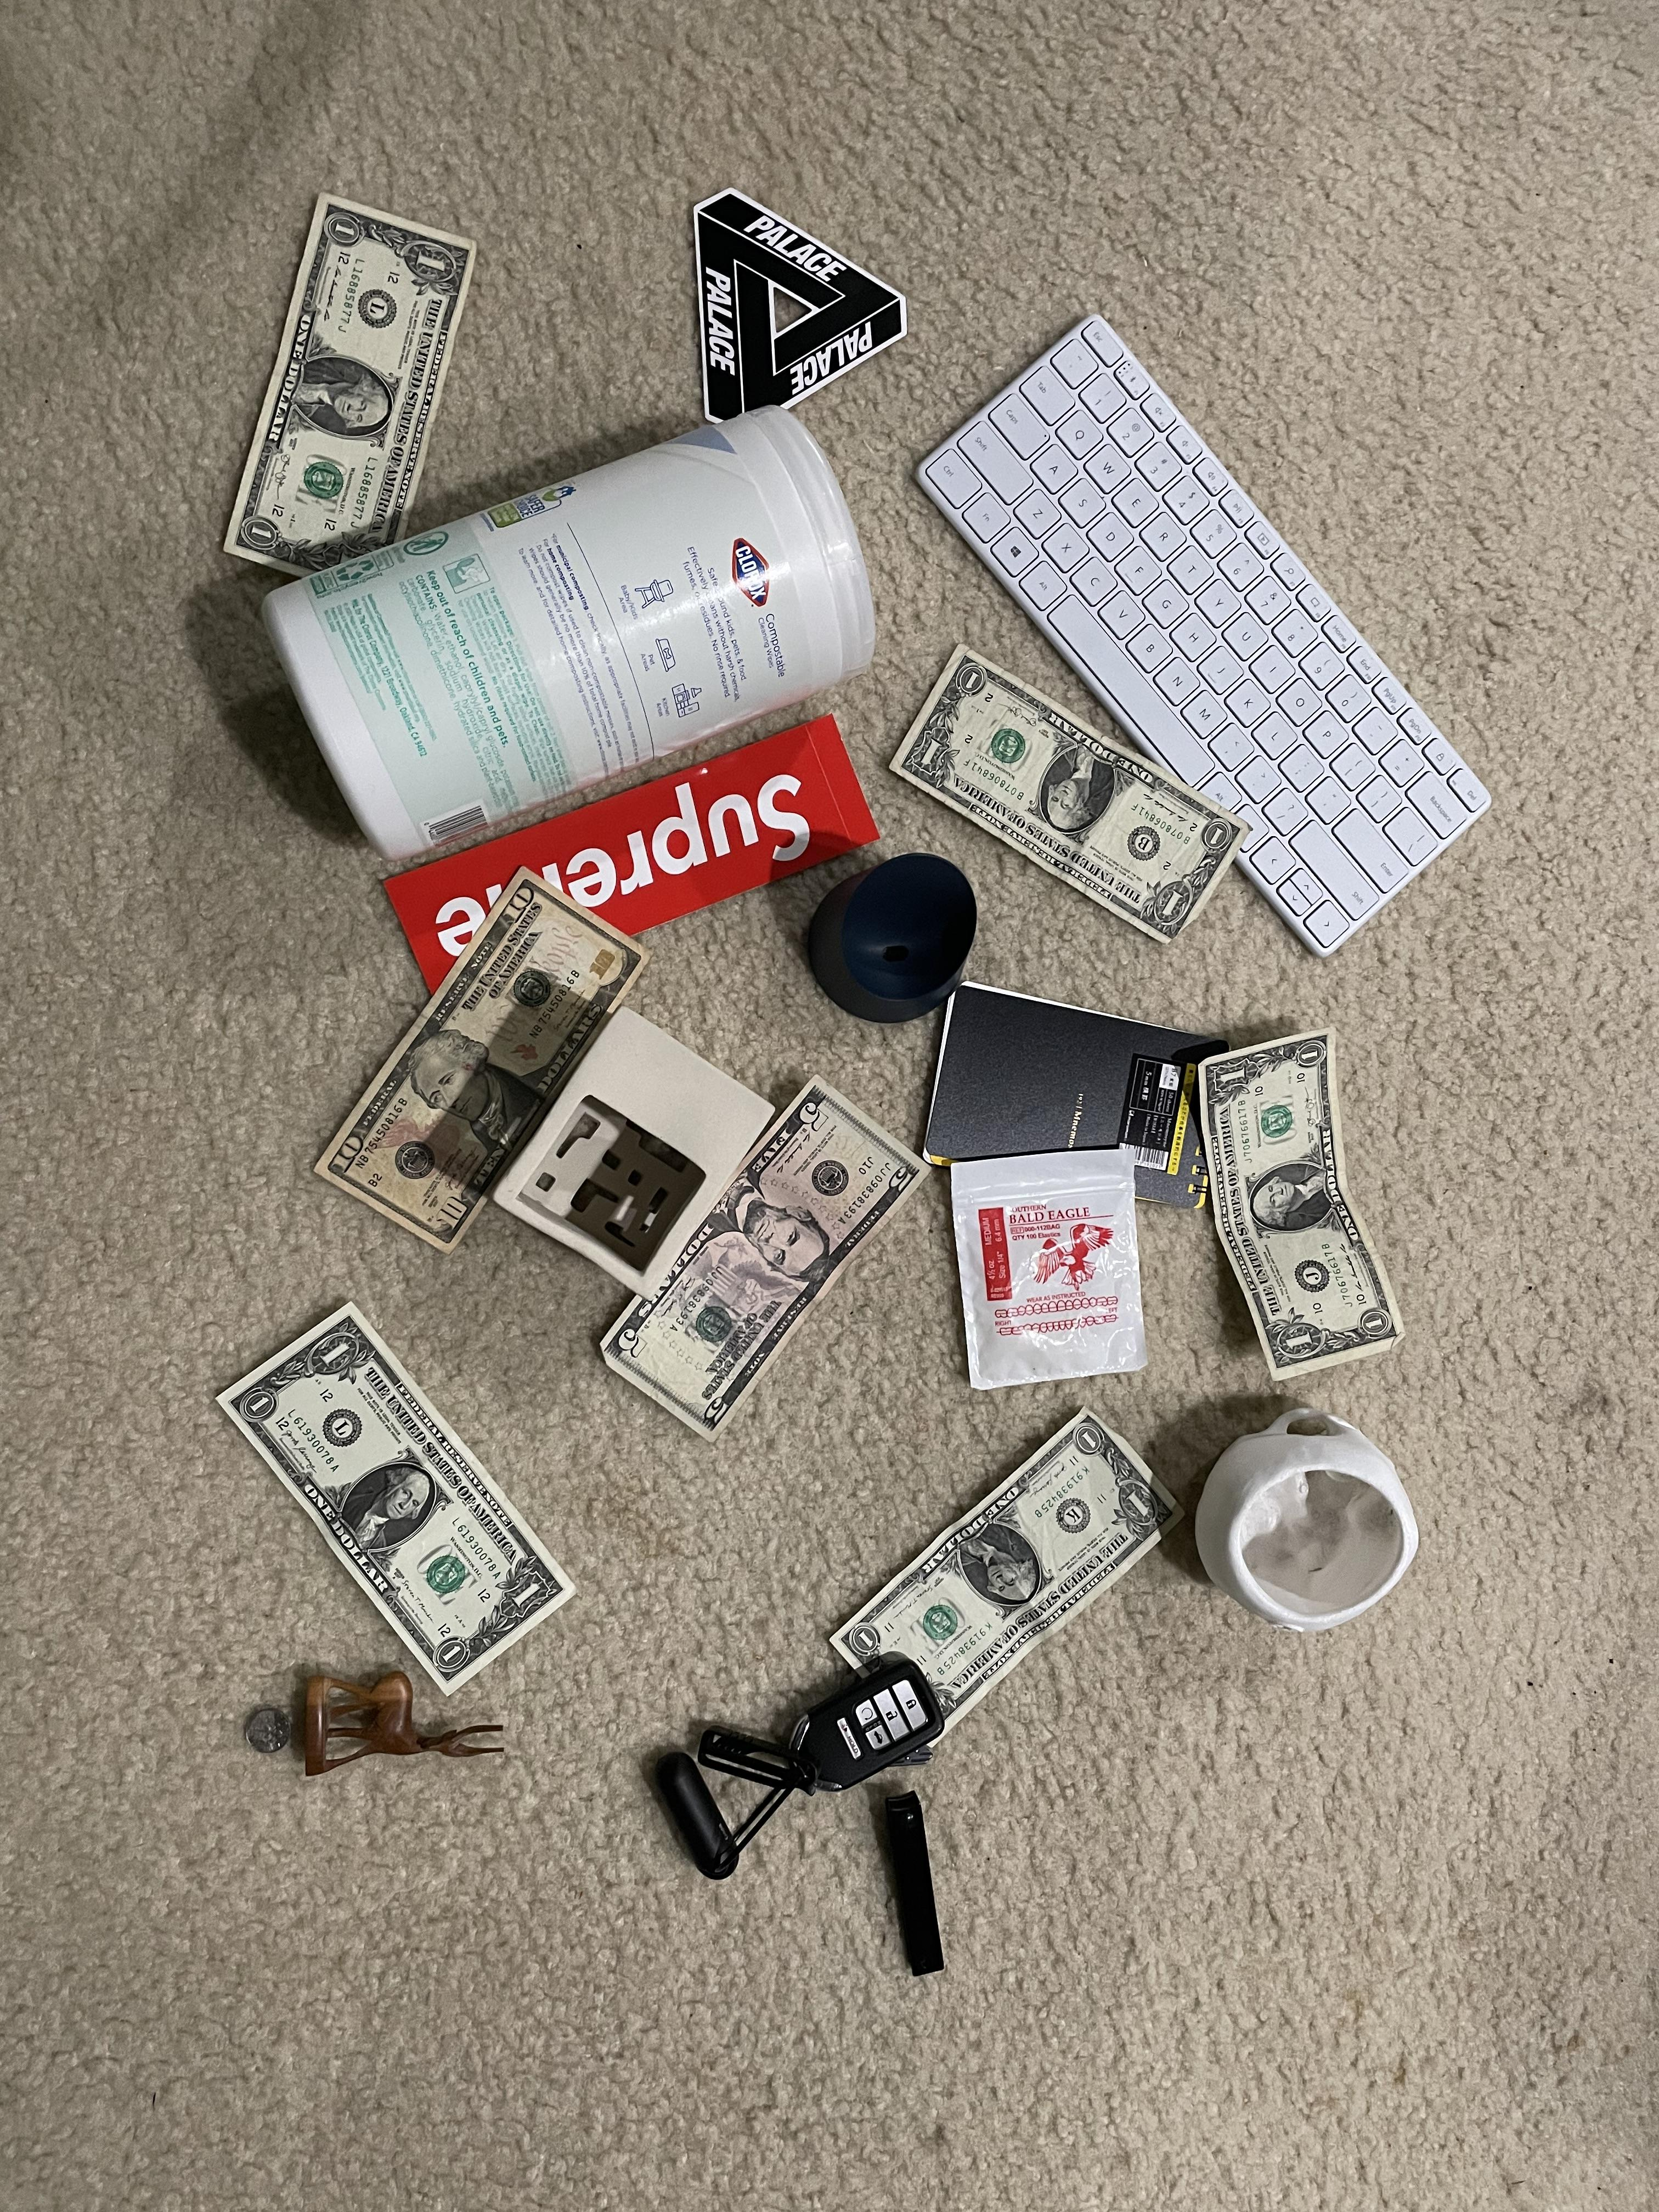Dime: (242, 1702, 295, 1761)
FiveBill: (587, 1055, 929, 1447)
OneBill: (206, 1289, 587, 1702), (824, 1404, 1188, 1761), (877, 632, 1253, 963), (216, 185, 488, 601), (1192, 1019, 1413, 1386)
TenBill: (310, 873, 653, 1261)
